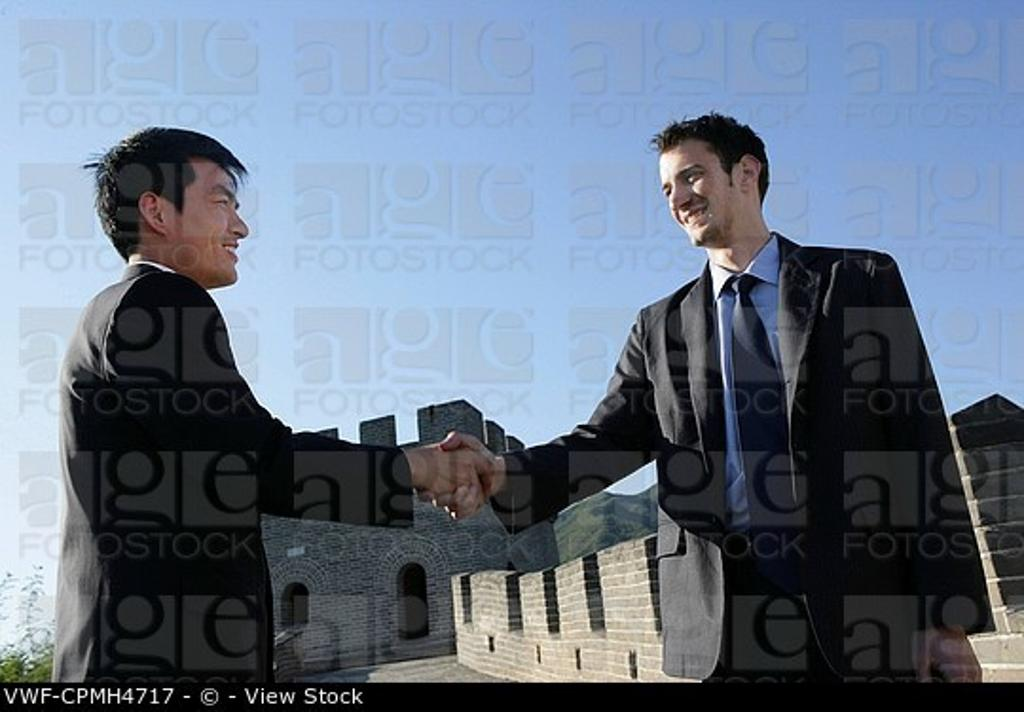face: (184, 160, 250, 286), (656, 140, 728, 250)
